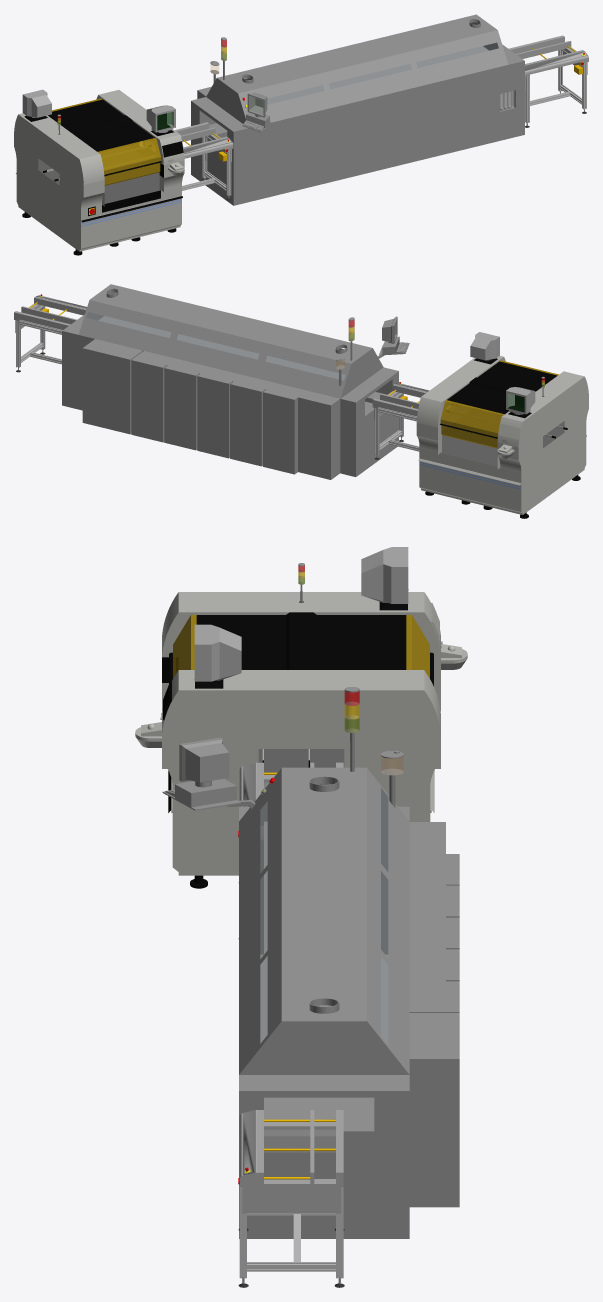
The model's file is pcb_machine.glb.
The picture shows the model from 3 angles, top to bottom: view 1: azimuth 30°, elevation 25°; view 2: azimuth 150°, elevation 25°; view 3: azimuth 270°, elevation 25°; orthographic projection. The views are drawn at different scales.
Visible parts, largest first — view 1: Object_2, Object_24; view 2: Object_2, Object_24; view 3: Object_2, Object_24.
Boxes of the visible parts, x1=… form: Object_2: x1=14, y1=14, x2=588, y2=255; Object_24: x1=52, y1=39, x2=514, y2=185; Object_2: x1=14, y1=284, x2=588, y2=518; Object_24: x1=348, y1=319, x2=558, y2=448; Object_2: x1=135, y1=547, x2=467, y2=1287; Object_24: x1=173, y1=565, x2=429, y2=732.
Size of the model in its own units: 8.22 by 2.11 by 2.24.
Materials: 7 (7 with a texture image).
